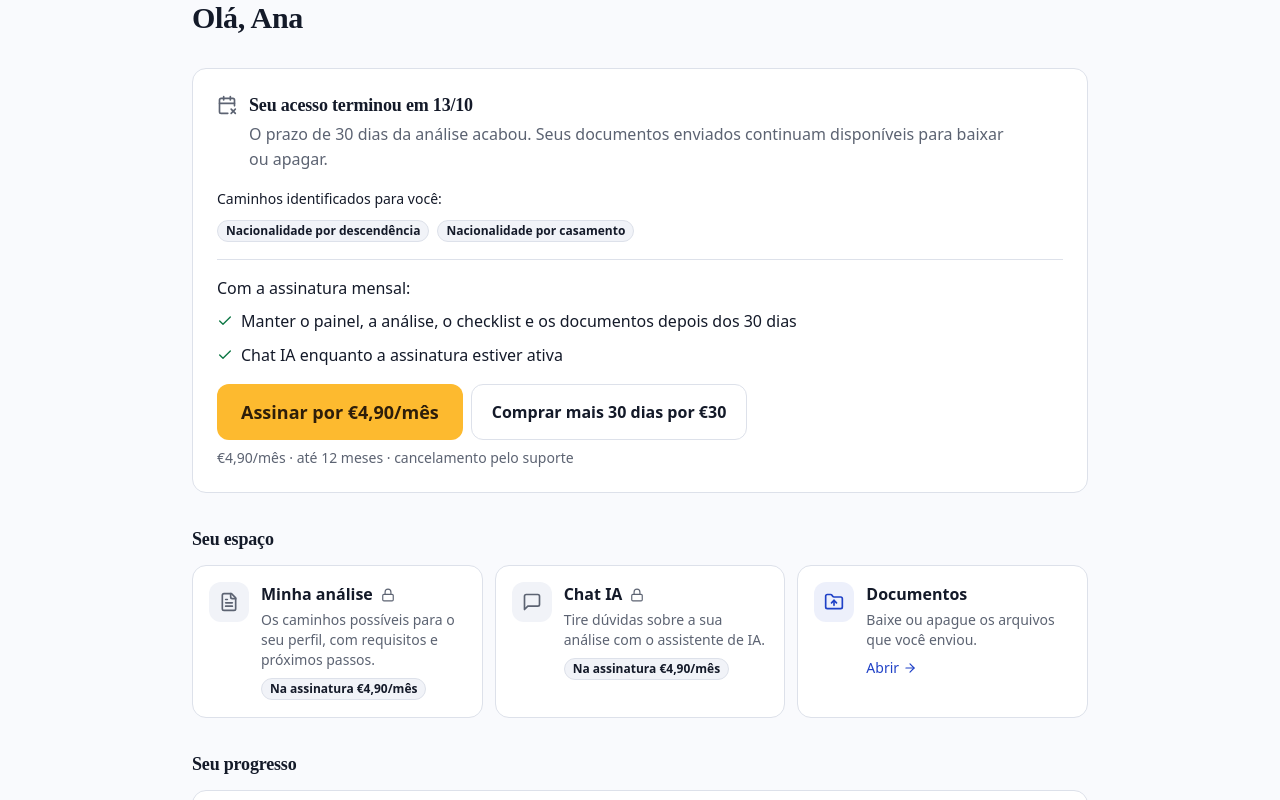
Test: DashboardHomePage — /dashboard?upsell=chat › expirado: tocar num card bloqueado já no Início abre o sheet (sem toque sem resposta)
The width and height of the screenshot is (1280, 800).
Click the button with test id "dashboard-card-analysis".
click(337, 641)  # box left=192, top=565, right=483, bottom=718
(page scrolled)
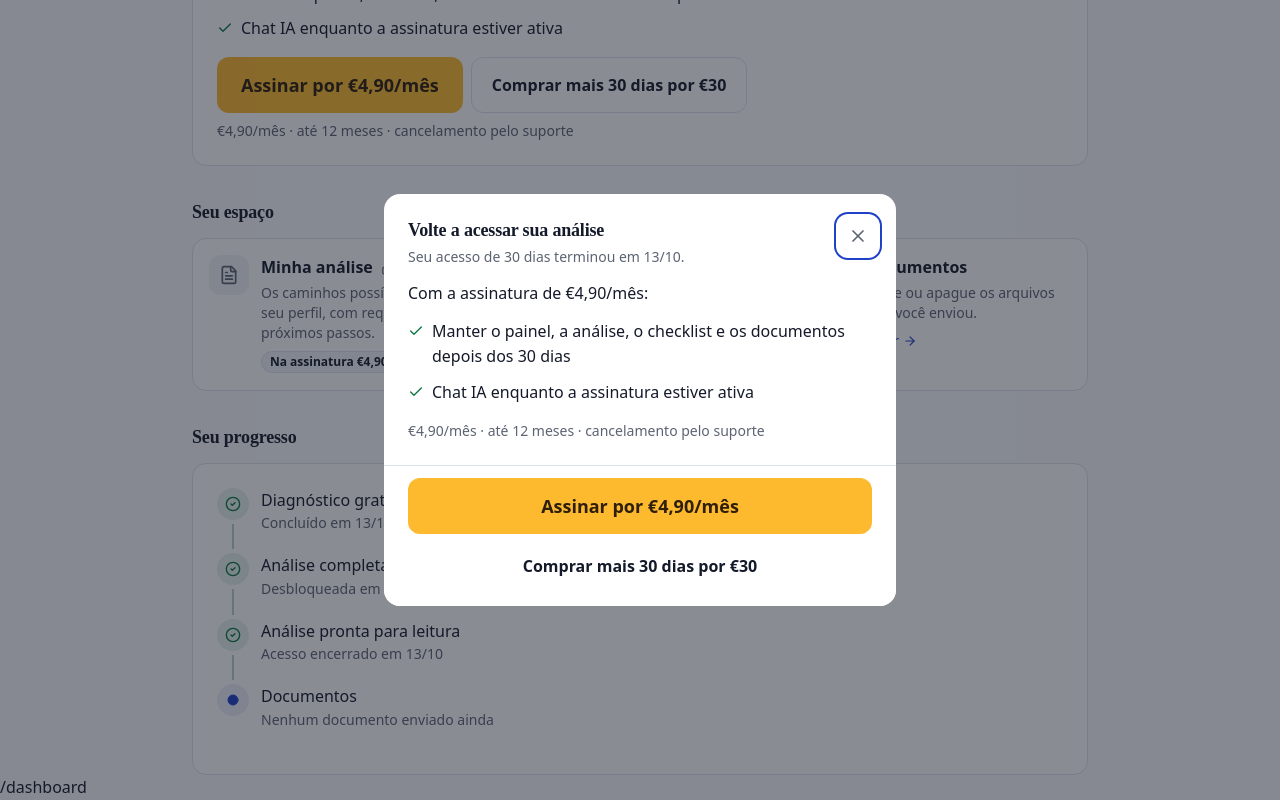
Expected: the text with test id "location" reads "/dashboard", left=0, top=776, right=87, bottom=798
Expected: the dialog shows "Volte a acessar sua análise", left=408, top=220, right=604, bottom=240
